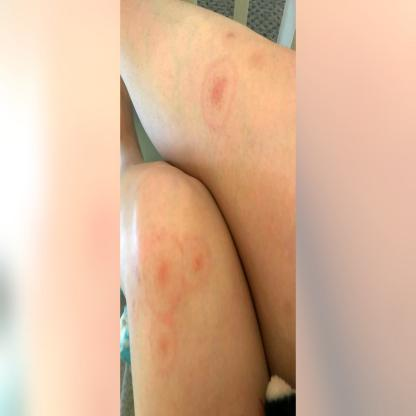Tick: (138, 230, 215, 380), (199, 53, 237, 133)
